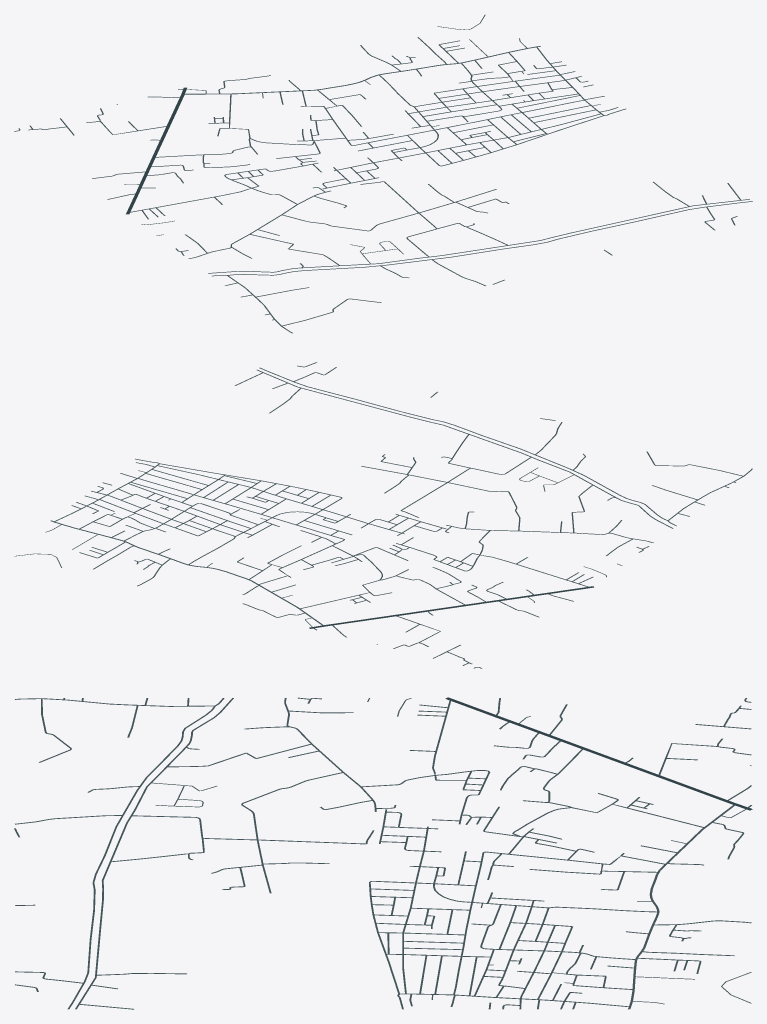
3 renders of one model, top to bottom at view 1: azimuth 30°, elevation 25°; view 2: azimuth 150°, elevation 25°; view 3: azimuth 270°, elevation 25°, orthographic. The views are drawn at different scales.
Visible parts, largest first — view 1: street, major; view 2: street, major; view 3: street, major.
Part boxes in pixels (bbox=[...]): street: bbox=[14, 14, 752, 333]; major: bbox=[126, 87, 186, 214]; street: bbox=[14, 362, 752, 668]; major: bbox=[309, 586, 593, 628]; street: bbox=[14, 697, 751, 1009]; major: bbox=[445, 697, 752, 810].
Bounding box in the file's own units: 2007 × 0.22 × 2007.
